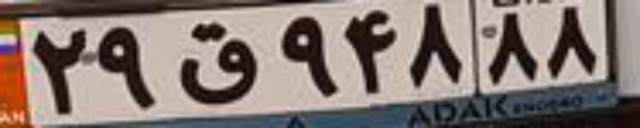2: (32, 29, 87, 115)
4: (344, 9, 401, 94)
8: (409, 4, 462, 89), (546, 6, 597, 77), (489, 13, 536, 85)
9: (97, 27, 156, 107), (279, 15, 337, 96)
ghaf: (177, 22, 257, 104)
